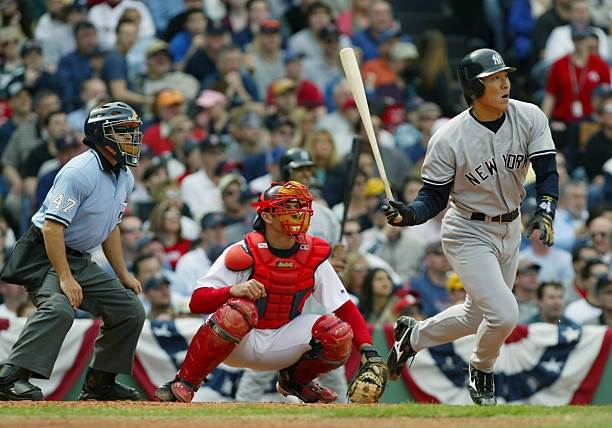bita: (339, 48, 403, 219)
